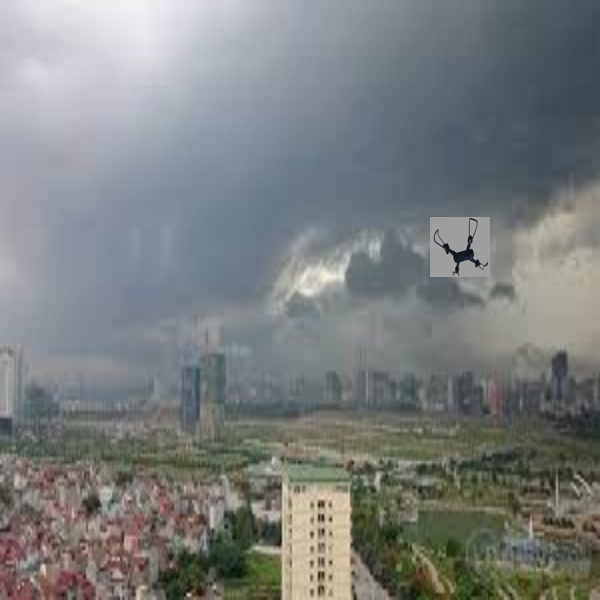drone: (430, 217, 491, 277)
